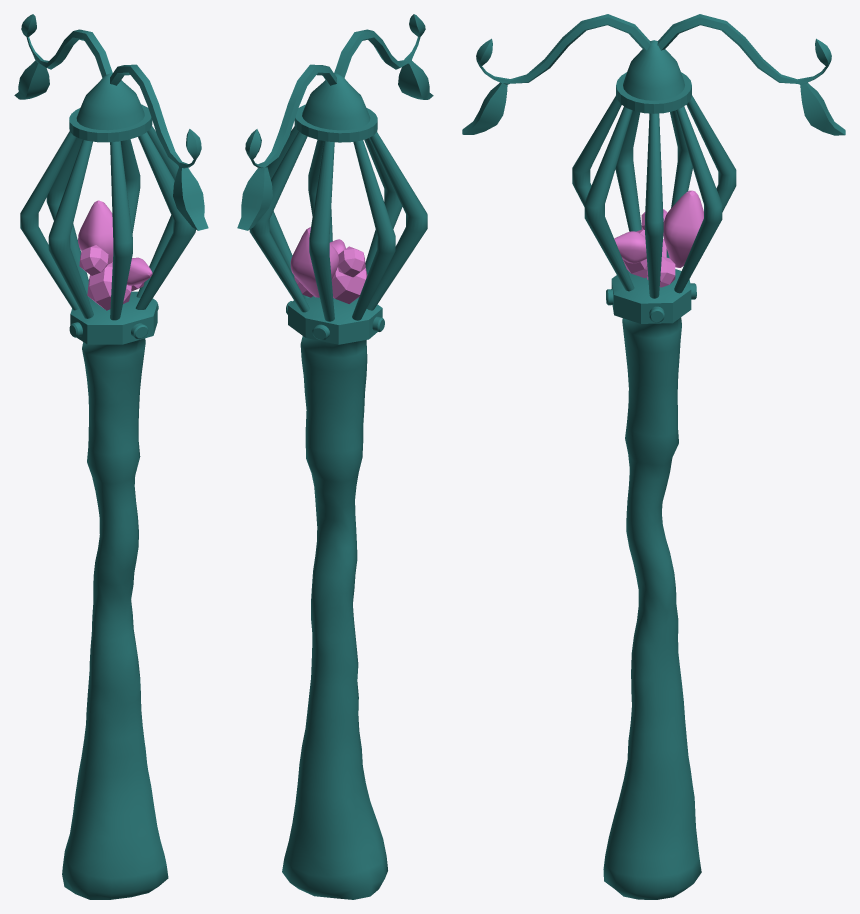
File: F_StreetLamp.fbx
The picture shows the model from 3 angles, left to right: view 1: azimuth 30°, elevation 25°; view 2: azimuth 150°, elevation 25°; view 3: azimuth 270°, elevation 25°; orthographic projection. The views are drawn at different scales.
Visible parts, largest first — view 1: Box003; view 2: Box003; view 3: Box003.
Part boxes in pixels (<box>): Box003: <box>14,14,208,899</box>; Box003: <box>237,14,433,899</box>; Box003: <box>462,14,845,899</box>.
Size of the model in its own units: 64.94 by 324 by 130.
